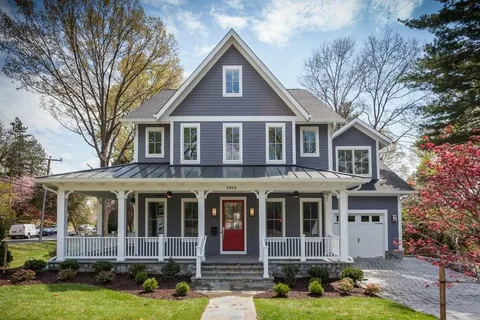private_hause: (127, 75, 381, 266)
